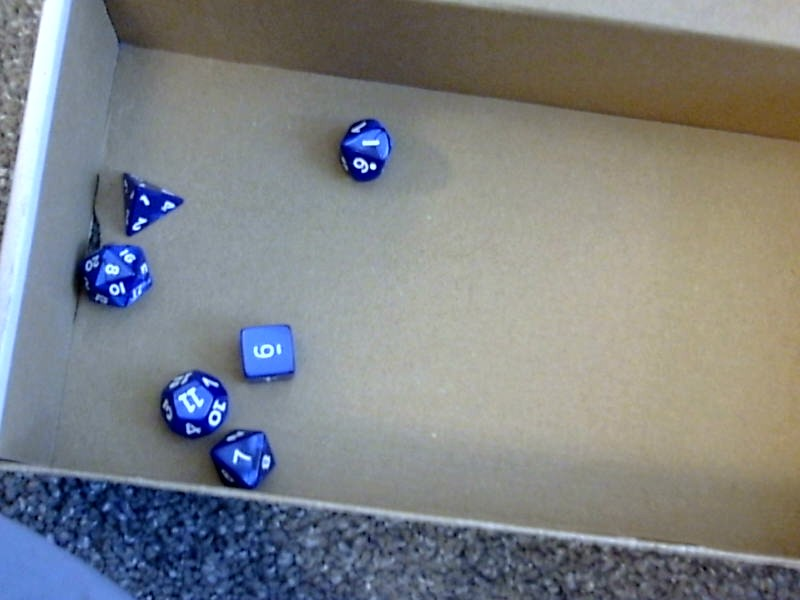d10 1: (339, 113, 392, 183)
d12 11: (162, 370, 227, 437)
d20 8: (72, 244, 157, 311)
d4 1: (115, 168, 187, 239)
d6 6: (237, 322, 298, 382)
d8 7: (211, 430, 280, 490)
